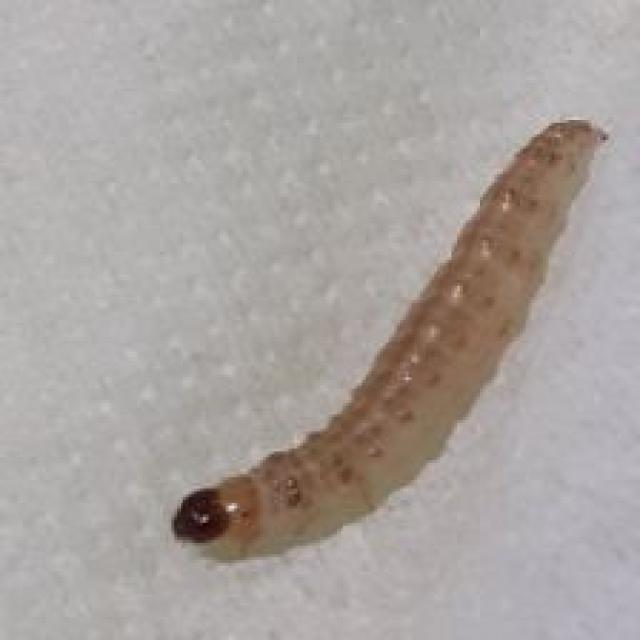white mucus: (146, 101, 623, 575)
